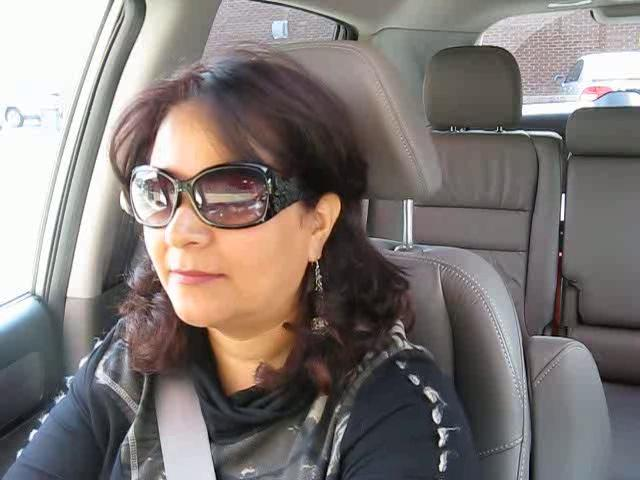no_yawn: (148, 252, 238, 302)
